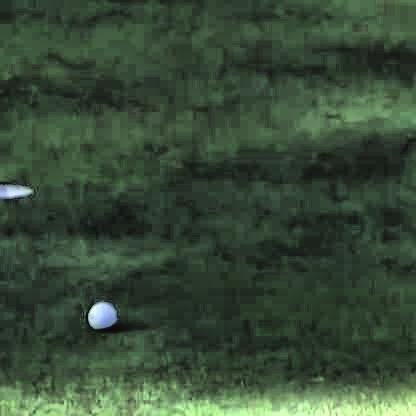golfball: (82, 299, 115, 330)
